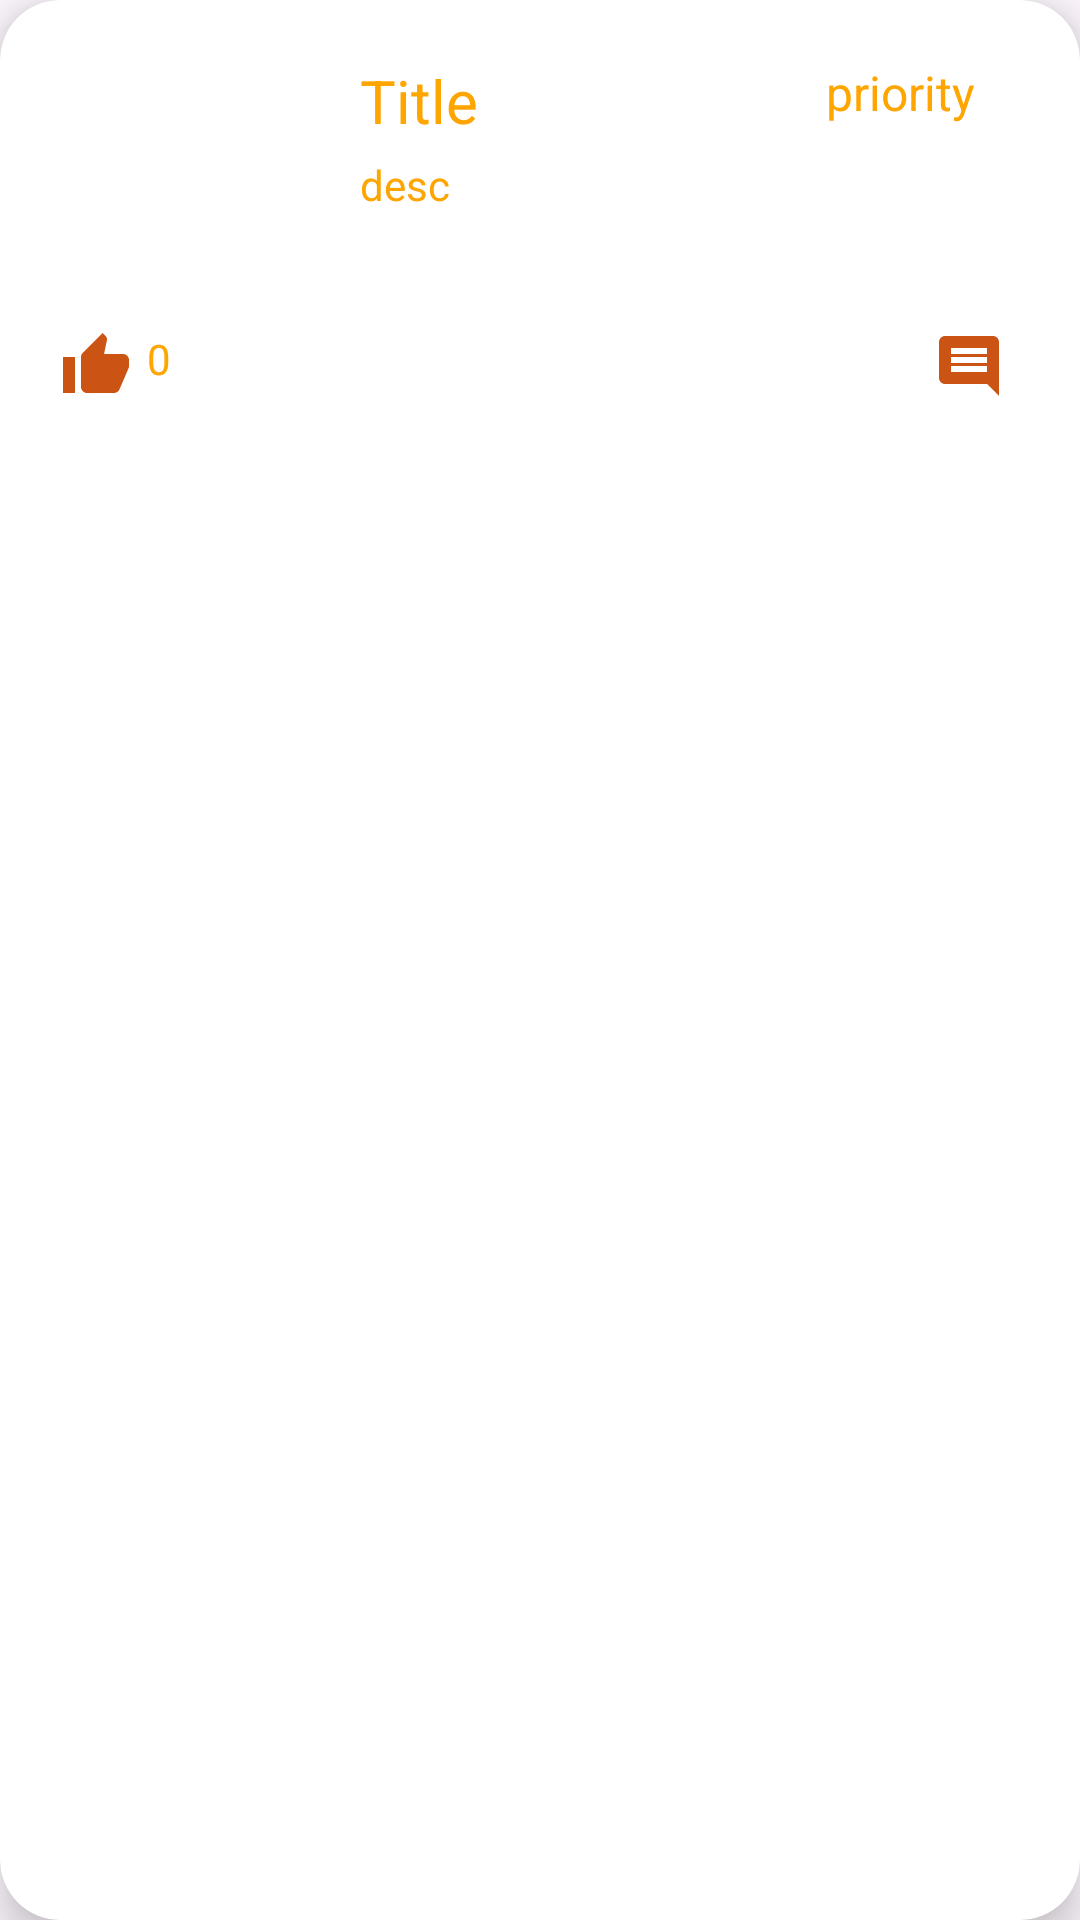

Where to tap for icons on this 1080px x 1920px app screen, as [x,y]:
comment: [969,366]
like: [96,363]
